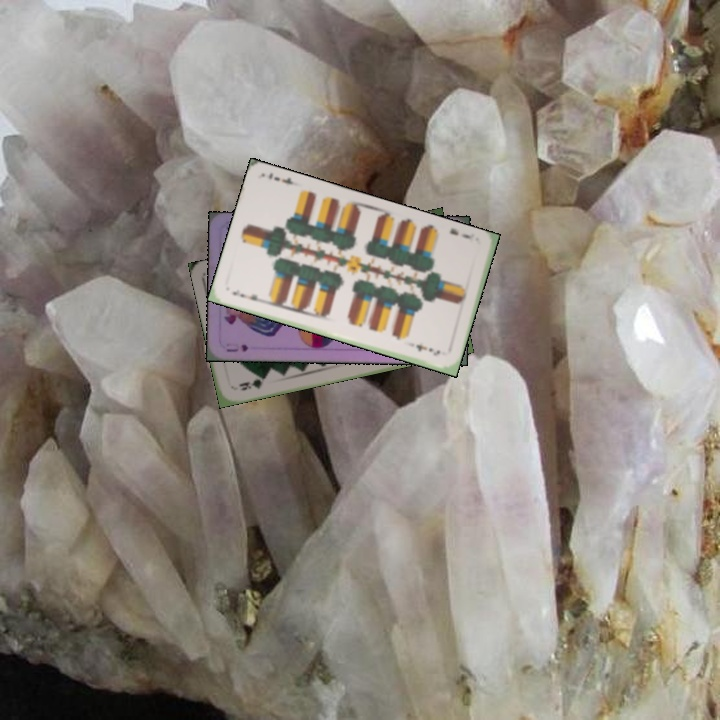E7: (228, 285, 265, 306), (446, 224, 476, 241)
G9: (234, 373, 268, 393)
SU: (222, 341, 251, 354)
